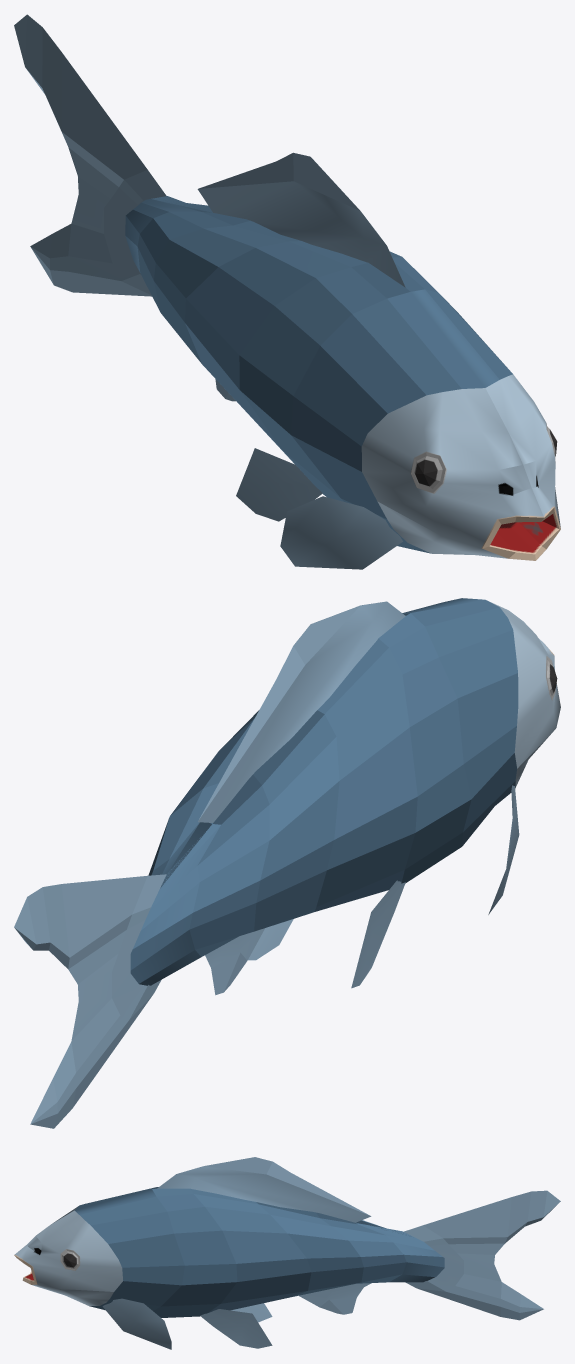
The model's file is Pesce.fbx.
The picture shows the model from 3 angles, top to bottom: view 1: azimuth 30°, elevation 25°; view 2: azimuth 150°, elevation 25°; view 3: azimuth 270°, elevation 25°; orthographic projection. The views are drawn at different scales.
Parts seen in each view (by area): view 1: finalfish; view 2: finalfish; view 3: finalfish.
Boxes of the visible parts, left/top/right/bottom form: finalfish: left=14, top=14, right=560, bottom=569; finalfish: left=14, top=598, right=560, bottom=1128; finalfish: left=14, top=1157, right=560, bottom=1349.
Size of the model in its own units: 58.51 by 87.26 by 242.
Materials: 3 (3 with a texture image).
